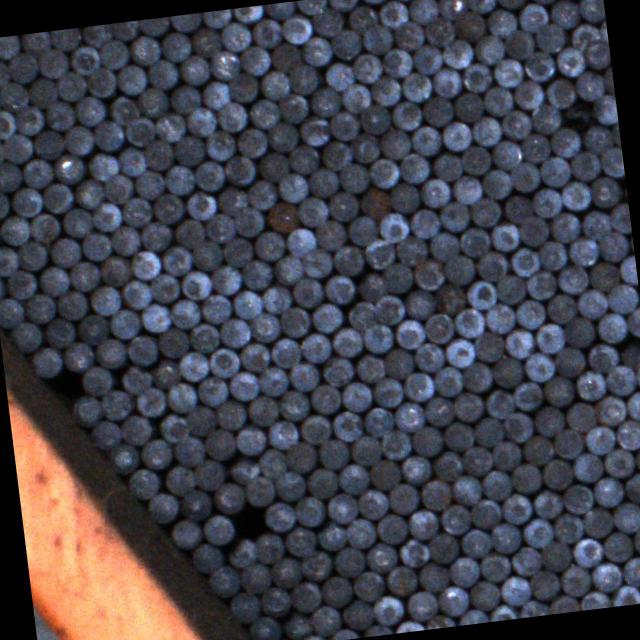tool: (341, 338, 394, 392), (268, 598, 325, 640), (124, 464, 161, 502), (382, 562, 420, 599), (500, 324, 537, 361), (318, 572, 354, 610), (416, 558, 452, 596), (404, 504, 440, 542), (436, 501, 474, 537), (259, 498, 297, 534), (428, 446, 464, 484), (530, 402, 568, 438), (330, 544, 367, 580), (426, 529, 462, 566), (347, 431, 383, 468), (296, 412, 333, 448), (192, 456, 227, 494), (314, 516, 349, 554), (415, 477, 453, 512), (206, 562, 242, 598), (144, 488, 180, 524), (98, 385, 134, 421), (22, 289, 58, 325), (96, 252, 132, 288), (70, 174, 106, 210), (266, 554, 302, 590), (489, 520, 525, 556), (570, 449, 606, 485), (272, 468, 308, 504), (335, 460, 371, 496), (315, 436, 351, 472), (391, 399, 427, 435), (540, 372, 576, 408), (244, 392, 280, 428), (338, 377, 374, 413), (318, 352, 354, 388), (594, 308, 630, 344), (450, 304, 486, 340), (356, 182, 392, 218), (296, 112, 332, 148), (322, 491, 359, 526), (28, 126, 66, 160), (468, 494, 502, 532), (408, 424, 446, 458), (232, 422, 268, 457), (202, 426, 238, 461), (68, 392, 103, 428), (125, 32, 161, 67), (477, 548, 512, 584), (550, 511, 586, 546), (590, 474, 626, 509), (384, 481, 420, 516), (304, 465, 339, 501), (398, 452, 433, 488), (550, 426, 586, 461), (328, 408, 364, 443), (401, 368, 436, 404), (381, 346, 416, 382), (562, 314, 598, 349), (400, 285, 436, 320), (411, 255, 446, 291), (366, 154, 401, 190), (376, 125, 412, 160), (243, 176, 280, 210), (156, 243, 191, 278), (449, 472, 484, 507), (593, 392, 628, 427), (490, 354, 525, 389), (321, 272, 356, 307), (345, 212, 380, 247), (409, 41, 444, 76), (469, 31, 504, 66), (124, 333, 160, 367), (42, 314, 78, 348), (75, 310, 111, 344), (118, 276, 154, 310), (34, 264, 70, 298), (188, 238, 224, 272), (24, 210, 60, 244), (50, 150, 84, 186), (447, 553, 481, 589), (569, 535, 605, 569), (298, 548, 334, 582), (364, 540, 400, 574), (344, 514, 378, 550), (498, 491, 534, 525), (365, 456, 401, 490), (572, 368, 608, 402), (604, 362, 638, 398), (585, 340, 621, 374), (586, 258, 622, 292), (594, 230, 630, 264), (238, 258, 274, 292), (392, 232, 428, 266), (587, 174, 623, 208), (230, 204, 266, 238), (568, 146, 602, 182), (335, 160, 371, 194), (221, 152, 257, 186), (285, 142, 321, 176), (528, 100, 562, 136), (358, 101, 392, 137), (482, 82, 516, 118), (438, 36, 474, 70), (244, 95, 281, 128), (210, 397, 248, 429), (225, 450, 260, 484), (60, 338, 95, 372), (106, 304, 140, 339), (183, 188, 217, 223), (158, 28, 192, 63), (602, 529, 636, 564), (396, 536, 431, 570), (375, 510, 409, 545), (540, 457, 574, 492), (284, 439, 318, 474), (471, 414, 505, 449), (308, 381, 342, 416), (552, 344, 587, 378), (256, 364, 290, 399), (286, 359, 320, 394), (441, 334, 476, 368), (431, 280, 466, 314), (463, 277, 498, 311), (489, 136, 524, 170), (254, 148, 289, 182), (308, 4, 343, 38), (212, 480, 248, 513), (162, 461, 195, 497), (117, 412, 153, 445), (149, 190, 185, 223), (510, 460, 543, 496), (406, 206, 442, 239), (458, 60, 494, 93), (1, 268, 38, 300), (371, 592, 405, 626), (227, 589, 261, 623), (106, 440, 140, 474), (132, 384, 166, 418), (78, 364, 112, 398), (66, 258, 100, 292), (190, 157, 224, 191), (20, 156, 54, 190), (168, 80, 202, 114), (508, 544, 542, 578), (539, 538, 573, 572), (459, 526, 493, 560), (282, 524, 316, 558), (530, 486, 564, 520), (480, 468, 514, 502), (603, 444, 637, 478), (489, 438, 523, 472), (520, 433, 554, 467), (564, 398, 598, 432), (422, 394, 456, 428), (522, 349, 556, 383), (412, 339, 446, 373), (246, 310, 280, 344), (556, 262, 590, 296), (361, 236, 395, 270), (517, 212, 551, 246), (546, 210, 580, 244), (284, 225, 318, 259), (325, 189, 359, 223), (538, 152, 572, 186), (213, 182, 247, 216), (548, 125, 582, 159), (318, 138, 352, 172), (512, 76, 546, 110), (544, 74, 578, 108), (214, 100, 248, 134), (308, 84, 342, 118), (339, 80, 373, 114), (429, 64, 463, 98), (522, 48, 556, 82), (238, 43, 272, 77), (329, 27, 363, 61), (188, 24, 222, 58), (339, 596, 374, 629), (7, 319, 42, 352), (293, 493, 326, 528), (575, 286, 608, 321), (524, 268, 559, 301), (226, 69, 259, 104), (501, 26, 536, 59), (483, 5, 518, 38), (30, 342, 62, 378), (215, 316, 251, 348), (46, 236, 82, 268), (264, 418, 300, 450), (362, 319, 394, 355), (542, 292, 578, 324), (603, 282, 639, 314), (472, 250, 508, 282), (427, 150, 463, 182), (419, 94, 455, 126), (467, 577, 501, 610), (588, 560, 622, 593), (259, 584, 292, 618), (172, 434, 205, 468), (138, 437, 172, 470), (147, 356, 180, 390), (156, 325, 190, 358), (142, 136, 175, 170), (113, 62, 147, 95), (520, 516, 554, 549), (560, 482, 594, 515), (582, 424, 616, 457), (379, 428, 412, 462), (501, 409, 534, 443), (451, 388, 484, 422), (482, 386, 516, 419), (277, 388, 310, 422), (371, 374, 404, 408), (432, 364, 465, 398), (461, 360, 494, 394), (472, 329, 506, 362), (237, 340, 270, 374), (266, 335, 300, 368), (392, 316, 425, 350), (278, 304, 311, 338), (493, 272, 527, 305), (289, 276, 323, 309), (330, 244, 364, 277), (252, 228, 286, 261), (314, 219, 348, 252), (264, 199, 298, 232), (418, 176, 452, 209), (397, 151, 430, 185), (408, 123, 442, 156), (468, 113, 502, 146), (498, 108, 532, 141), (204, 128, 237, 162), (234, 125, 268, 158), (452, 90, 486, 123), (278, 90, 311, 124), (350, 51, 383, 85), (360, 22, 393, 56), (452, 8, 486, 41), (514, 0, 548, 33), (279, 12, 312, 46), (224, 533, 256, 568), (200, 512, 235, 544), (351, 570, 386, 602), (461, 443, 493, 478), (300, 330, 332, 365), (329, 326, 364, 358), (426, 230, 461, 262), (554, 43, 586, 78), (379, 46, 414, 78), (609, 498, 640, 534), (243, 474, 276, 507), (59, 205, 92, 238), (119, 195, 152, 228), (152, 109, 185, 142), (183, 104, 216, 137), (84, 65, 117, 98), (458, 225, 491, 258), (509, 159, 542, 192), (265, 119, 298, 152), (308, 604, 342, 636), (404, 590, 438, 622), (500, 572, 532, 606), (528, 566, 560, 600), (558, 564, 592, 596), (190, 540, 224, 572), (118, 362, 152, 394), (94, 335, 126, 369), (54, 288, 88, 320), (88, 284, 122, 316), (108, 224, 142, 256), (137, 220, 171, 252), (88, 199, 120, 233), (115, 142, 147, 176), (60, 124, 94, 156), (72, 92, 104, 126), (53, 68, 87, 100), (66, 43, 100, 75), (97, 36, 129, 70), (290, 580, 322, 614), (357, 488, 389, 522), (256, 446, 288, 480), (441, 420, 475, 452), (362, 404, 394, 438), (512, 378, 544, 412), (534, 320, 566, 354), (422, 310, 454, 344), (484, 300, 516, 334), (309, 300, 341, 334), (373, 292, 405, 326), (382, 260, 414, 294), (506, 244, 540, 276), (536, 238, 568, 272), (221, 234, 253, 268), (500, 191, 534, 223), (530, 184, 562, 218), (388, 180, 420, 214), (460, 142, 492, 176), (580, 122, 614, 154), (438, 118, 472, 150), (490, 56, 524, 88), (198, 76, 230, 110), (322, 59, 356, 91), (422, 14, 456, 46), (218, 20, 252, 52), (435, 583, 468, 615), (157, 410, 190, 442), (183, 403, 216, 435), (226, 368, 258, 401), (206, 344, 239, 376), (167, 298, 200, 330), (208, 262, 240, 295), (202, 211, 235, 243), (9, 185, 42, 217), (162, 163, 194, 196), (173, 132, 206, 164), (1, 132, 34, 164), (122, 115, 154, 148), (13, 103, 46, 135), (581, 506, 614, 538), (344, 298, 377, 330), (258, 282, 291, 314), (444, 253, 476, 286), (376, 210, 409, 242), (469, 195, 502, 227), (450, 173, 483, 205), (481, 167, 513, 200), (306, 165, 338, 198), (328, 108, 361, 140), (370, 74, 402, 107), (533, 21, 565, 54), (207, 49, 240, 81), (299, 34, 332, 66), (253, 530, 284, 564), (178, 488, 212, 519), (164, 380, 198, 411), (176, 350, 210, 381), (38, 182, 72, 213), (577, 207, 611, 238), (248, 17, 282, 48), (345, 3, 379, 34), (546, 0, 581, 30), (169, 516, 201, 548), (196, 372, 228, 404), (137, 300, 169, 332), (198, 292, 230, 324), (179, 268, 211, 300), (16, 239, 48, 271), (43, 99, 75, 131), (108, 93, 140, 125), (488, 220, 520, 252), (439, 200, 471, 232), (558, 178, 590, 210), (276, 170, 308, 202), (520, 130, 552, 162), (400, 70, 432, 102), (286, 64, 318, 96), (85, 149, 118, 180), (177, 54, 210, 85), (7, 50, 38, 83), (299, 247, 332, 278), (295, 195, 328, 226), (389, 100, 423, 130), (266, 40, 300, 70), (128, 248, 160, 279), (80, 230, 112, 261), (102, 172, 134, 203), (92, 118, 123, 150), (137, 86, 168, 118), (26, 75, 58, 106), (146, 59, 178, 90), (514, 298, 545, 330), (230, 286, 261, 318), (354, 270, 385, 302), (271, 252, 302, 284), (574, 68, 605, 100), (188, 321, 218, 354), (347, 132, 380, 162), (391, 20, 424, 50), (238, 562, 270, 592), (90, 416, 120, 448), (148, 272, 180, 302), (566, 236, 598, 266), (258, 69, 288, 101), (568, 20, 600, 50), (0, 79, 29, 112), (375, 0, 408, 29), (246, 613, 281, 640), (613, 417, 640, 452), (173, 217, 204, 247), (132, 167, 163, 197), (38, 47, 68, 78), (582, 38, 611, 69), (0, 214, 28, 246), (598, 145, 624, 178), (592, 92, 618, 125), (0, 294, 25, 327), (405, 0, 439, 24), (79, 23, 111, 48), (18, 31, 50, 55), (616, 341, 640, 373), (607, 202, 631, 234), (0, 159, 23, 192), (168, 12, 202, 34), (609, 582, 640, 606), (619, 553, 640, 588), (0, 242, 21, 277), (231, 4, 264, 26), (262, 1, 296, 22), (548, 592, 580, 614), (578, 588, 610, 610), (49, 28, 80, 50), (435, 0, 469, 20), (488, 601, 520, 622), (617, 254, 638, 286), (457, 606, 489, 626), (138, 16, 170, 36), (201, 8, 233, 28), (517, 598, 548, 618), (577, 0, 605, 22), (622, 470, 640, 504), (108, 20, 138, 40), (424, 612, 456, 630), (624, 388, 640, 421), (0, 34, 20, 59), (0, 108, 16, 139), (625, 305, 640, 338), (296, 0, 327, 15), (325, 0, 358, 13), (465, 0, 495, 14), (0, 55, 11, 90), (0, 186, 11, 218), (493, 0, 527, 10), (632, 523, 640, 556), (633, 359, 640, 394), (633, 442, 640, 476), (358, 0, 390, 5)
tool_b: (560, 98, 596, 132)
void: (220, 494, 279, 551), (43, 366, 80, 403)
